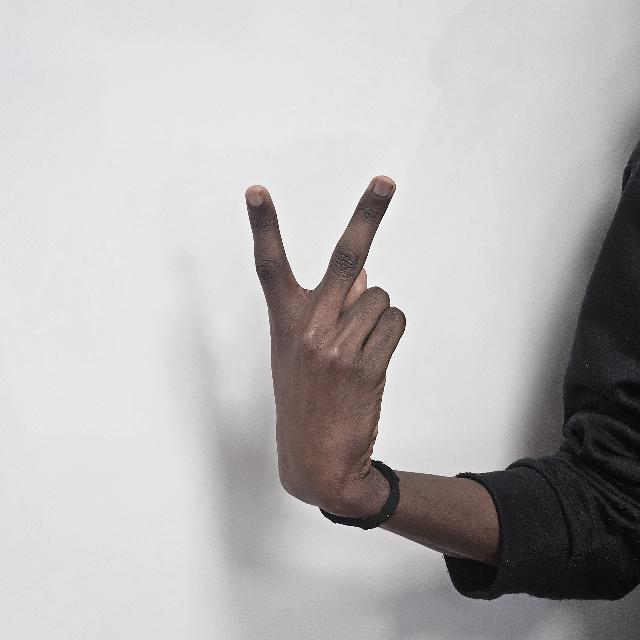Triangulo: (241, 174, 404, 552)
